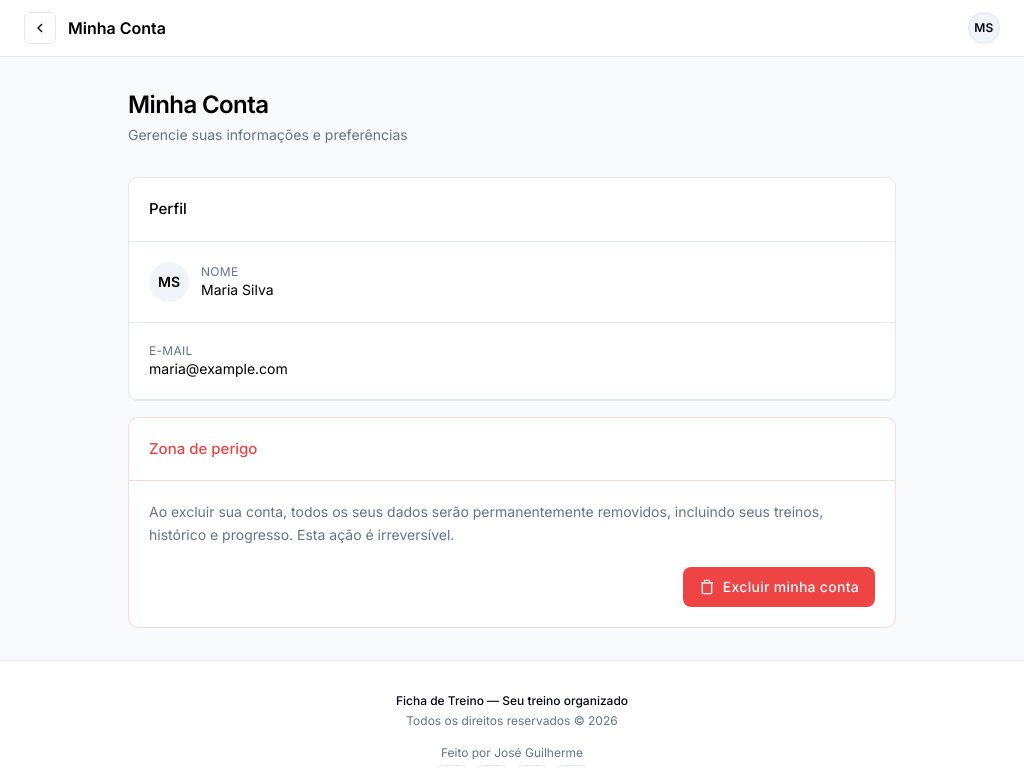
Test: AccountPage › shows profile and opens confirmation modal
The width and height of the screenshot is (1024, 768).
Expected: the heading "Minha Conta" is shown, [128,90,268,119]
Expected: the button with aria-label "Abrir menu do usuário" reads "MS", [968,12,1000,44]
What coordinates should you click on to do the following:
click the button "Excluir minha conta"
I would click on:
 (779, 586)
Its box is [683,566,875,606].
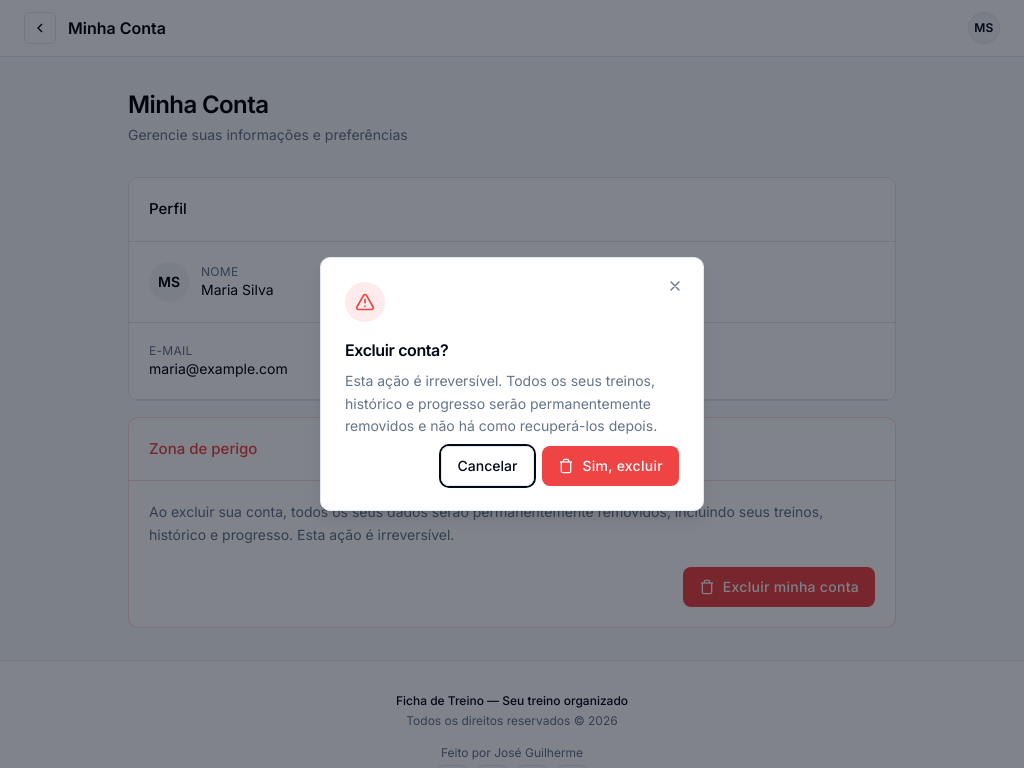
Expected: the dialog is shown, [320,257,704,511]
Expected: the heading "Excluir conta?" is shown, [345,340,448,360]
